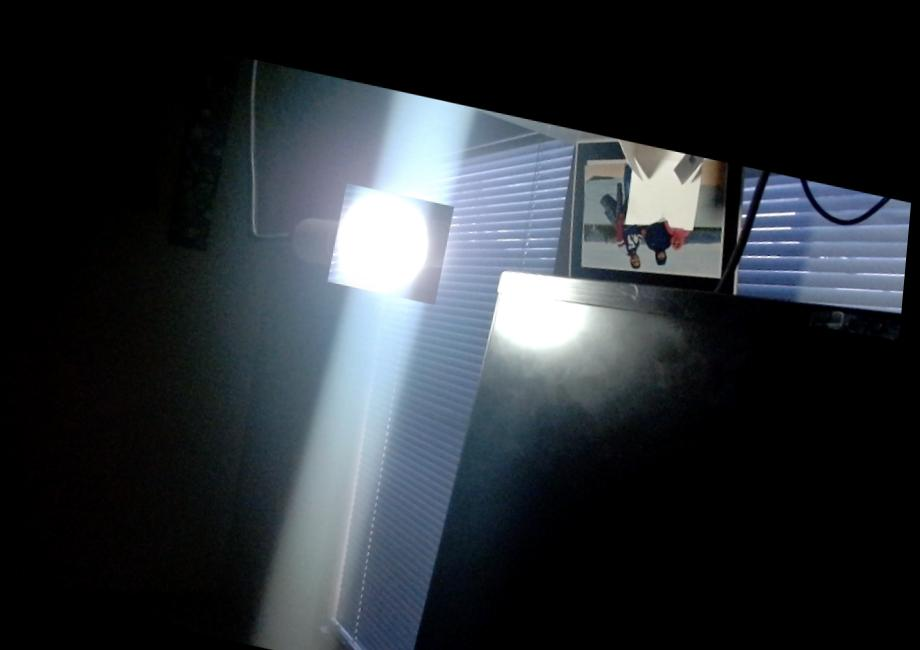TubeLight: (331, 174, 459, 297)
